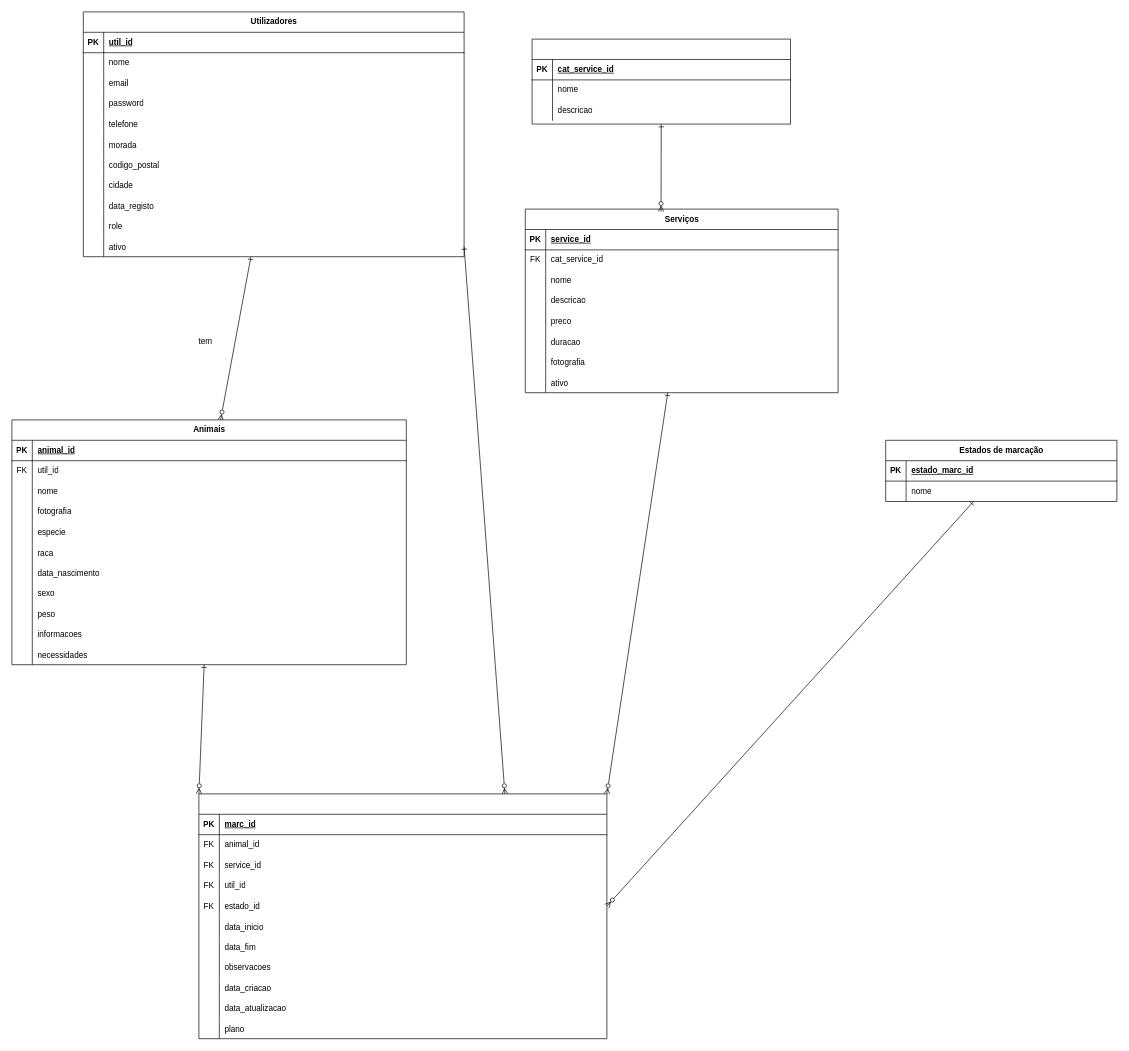
Image size: 1129x1051. Some labels were removed from this diagram. The shapes that lost their labels are listed below. From the top down, each one's box as (x1, y1, x2, y2) in pixels, then its label:
(531, 38, 790, 124): Categorias de serviço
(198, 793, 607, 1039): Marcações
